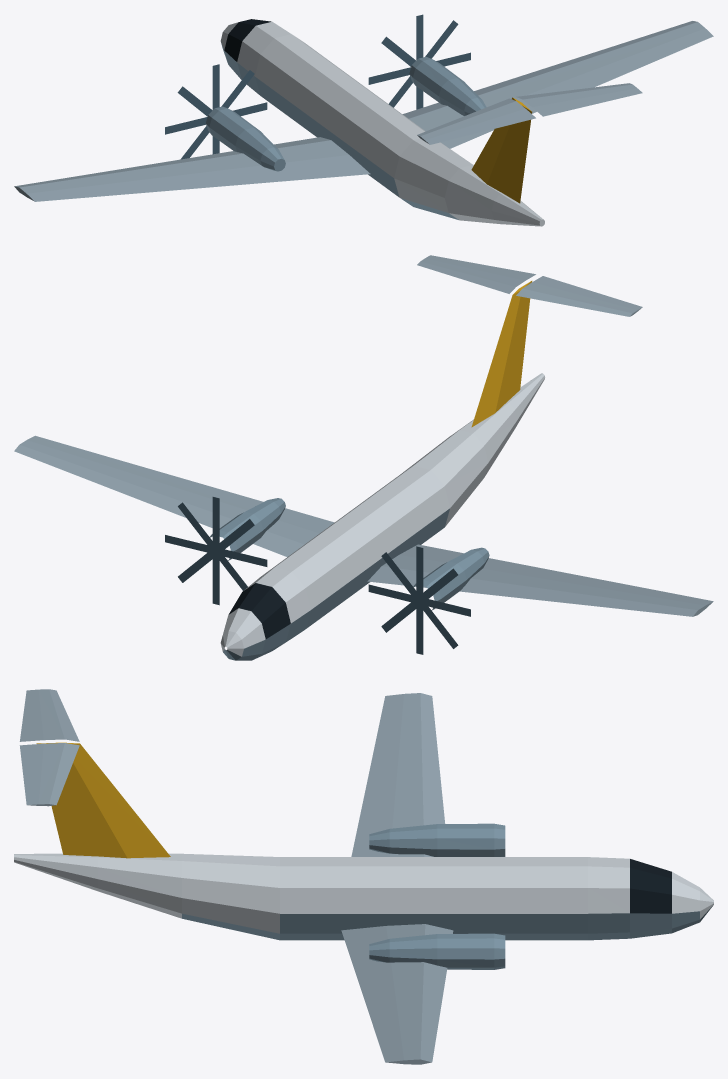
3 renders of one model, top to bottom at view 1: azimuth 30°, elevation 25°; view 2: azimuth 150°, elevation 25°; view 3: azimuth 270°, elevation 25°, orthographic. The views are drawn at different scales.
Parts seen in each view (by area): view 1: lod0; view 2: lod0; view 3: lod0.
Boxes of the visible parts, x1,y1,x2,y2 form: lod0: (14, 14, 713, 226); lod0: (14, 255, 713, 660); lod0: (14, 689, 713, 1064).
Size of what is drawn, in the model's own units: 1.24 by 0.3386 by 1.
